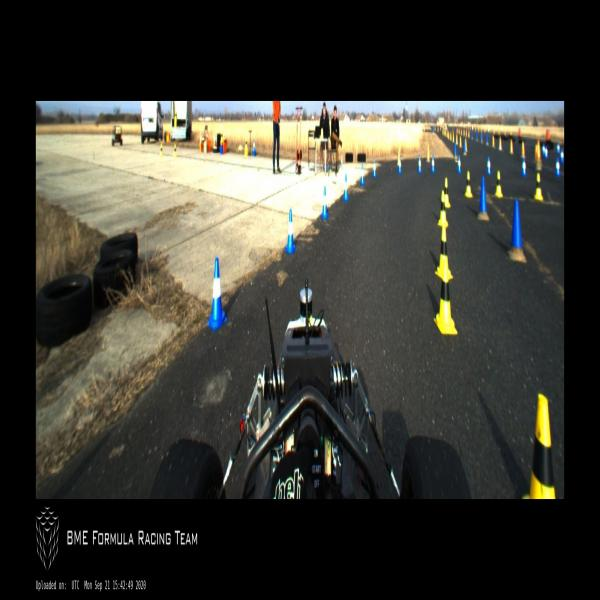blue_cone: (206, 257, 228, 331), (284, 209, 297, 255), (321, 187, 329, 220), (342, 174, 350, 202), (360, 163, 366, 186), (554, 157, 561, 176), (430, 154, 436, 174), (486, 156, 492, 176), (456, 154, 462, 173), (521, 157, 527, 176), (372, 159, 377, 178), (417, 156, 422, 174), (398, 156, 402, 174), (560, 148, 564, 164), (557, 143, 560, 154), (542, 143, 545, 154), (545, 145, 547, 158)
unknown_cone: (507, 198, 527, 264), (477, 176, 490, 220), (426, 144, 430, 162), (453, 142, 457, 159), (397, 144, 400, 166)
yellow_cone: (521, 392, 556, 499), (433, 258, 458, 336), (435, 225, 453, 282), (437, 190, 448, 226), (533, 172, 543, 200), (495, 169, 503, 198), (465, 171, 473, 198), (444, 178, 451, 208), (159, 140, 164, 156)
